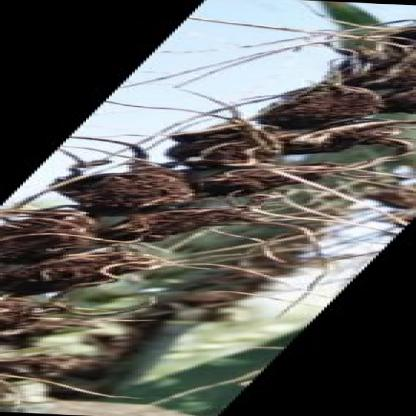Wheat Smut: (3, 256, 117, 279), (245, 122, 384, 140), (3, 350, 91, 378), (7, 304, 71, 339), (282, 93, 371, 118), (12, 216, 92, 242), (77, 179, 164, 201), (184, 167, 274, 187), (171, 136, 240, 155), (118, 216, 217, 229), (347, 51, 399, 75)
